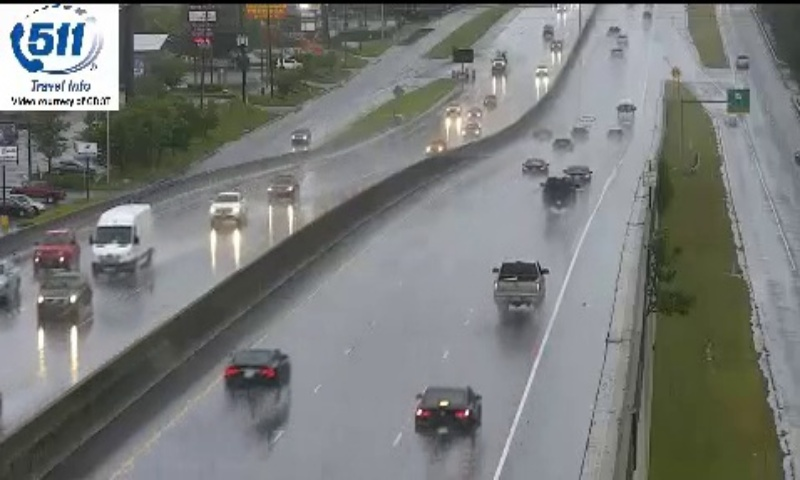car: (415, 386, 480, 434), (225, 348, 289, 390), (495, 260, 543, 304), (542, 177, 574, 207)
